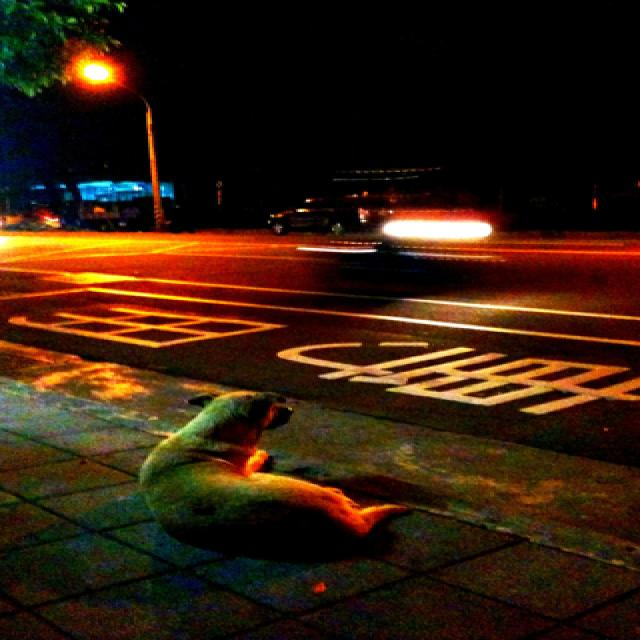Dog: (133, 364, 498, 608)
